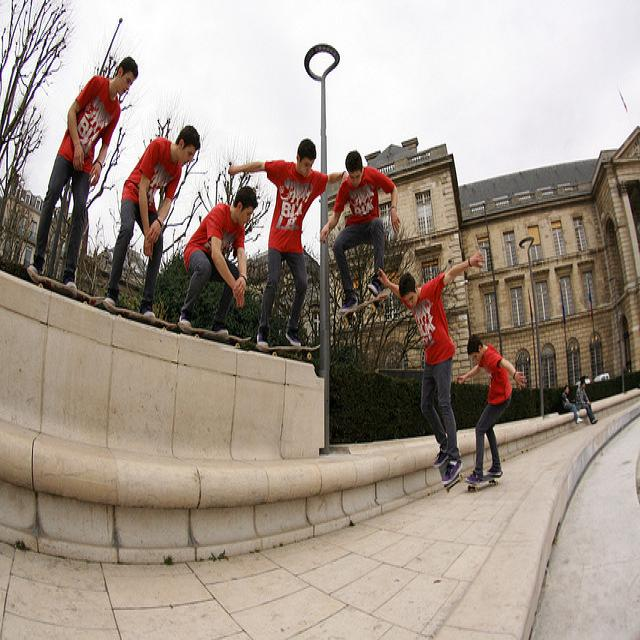Vehicle: (593, 373, 610, 382)
